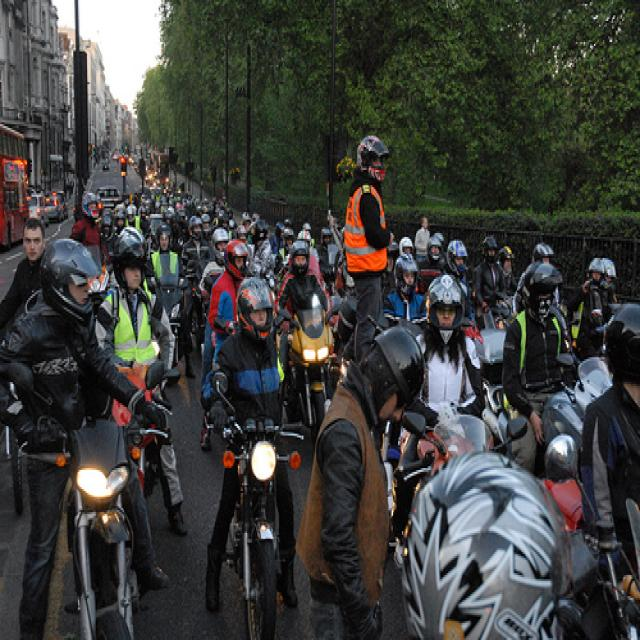motor: (6, 351, 177, 639), (545, 434, 638, 640), (210, 364, 309, 528), (274, 302, 342, 446), (394, 414, 528, 486), (541, 350, 612, 452), (481, 368, 571, 442), (230, 512, 277, 631), (151, 254, 192, 364), (546, 478, 581, 532), (320, 245, 340, 290), (491, 296, 513, 319), (214, 318, 233, 336)
